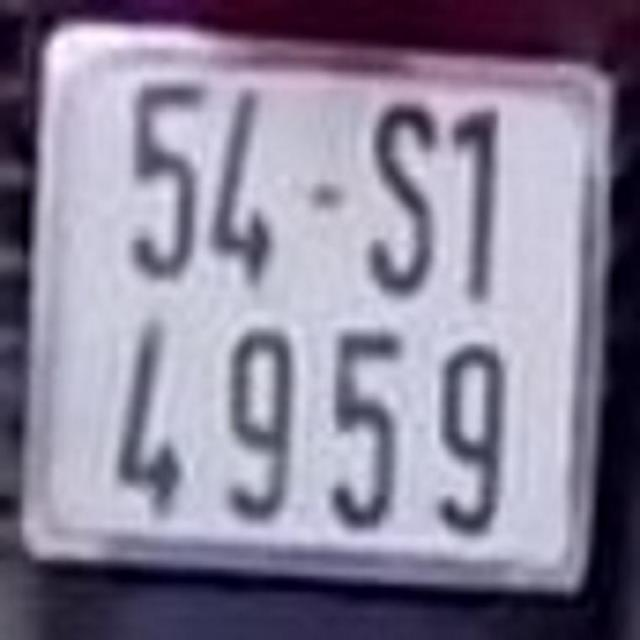1: (450, 103, 502, 307)
4: (210, 76, 290, 287), (123, 327, 196, 524)
5: (329, 322, 402, 525), (126, 78, 196, 276)
9: (438, 338, 509, 541), (224, 335, 295, 514)
S: (373, 92, 435, 302)
